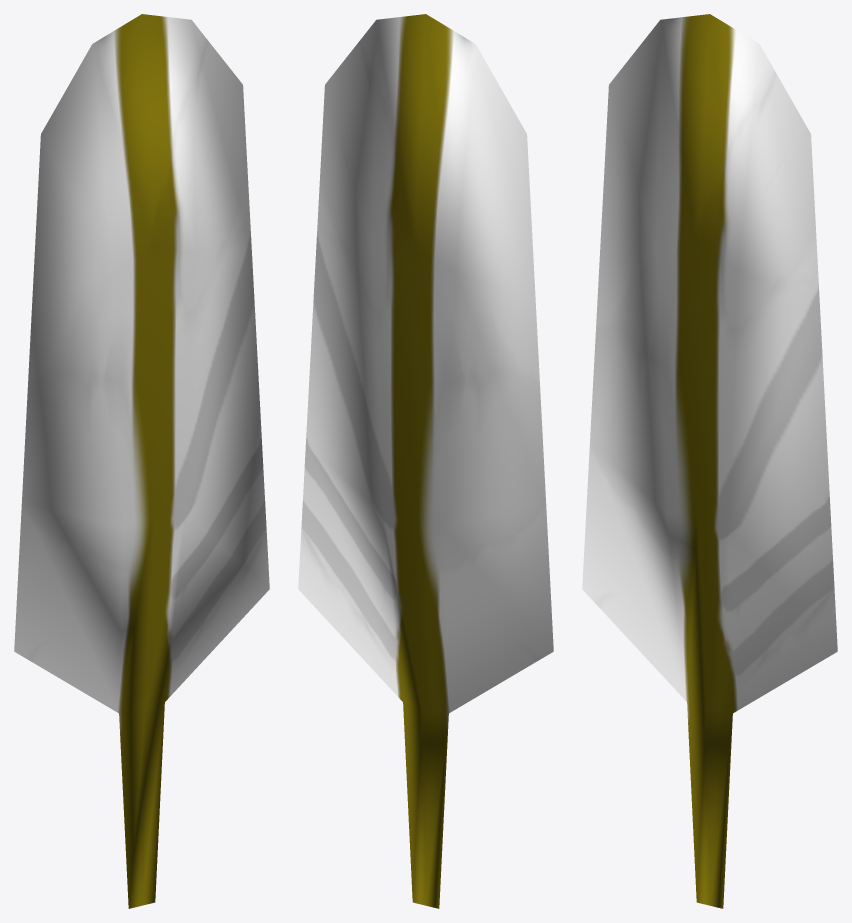
File: Feather.obj
3 views of the same model, side by side, from view 1: azimuth 30°, elevation 25°; view 2: azimuth 150°, elevation 25°; view 3: azimuth 330°, elevation 25° (orthographic).
Parts seen in each view (by area): view 1: unnamed_object1; view 2: unnamed_object1; view 3: unnamed_object1.
Boxes of the visible parts, left/top/right/bottom form: unnamed_object1: left=14, top=14, right=269, bottom=908; unnamed_object1: left=298, top=14, right=553, bottom=908; unnamed_object1: left=582, top=14, right=837, bottom=908.
Bounding box in the file's own units: 0.9 × 3 × 0.15.
1 material, 1 textured.
